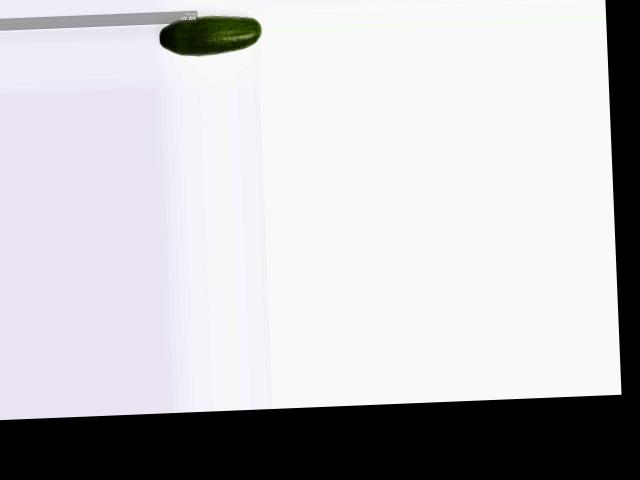cucumber: (156, 13, 262, 57)
